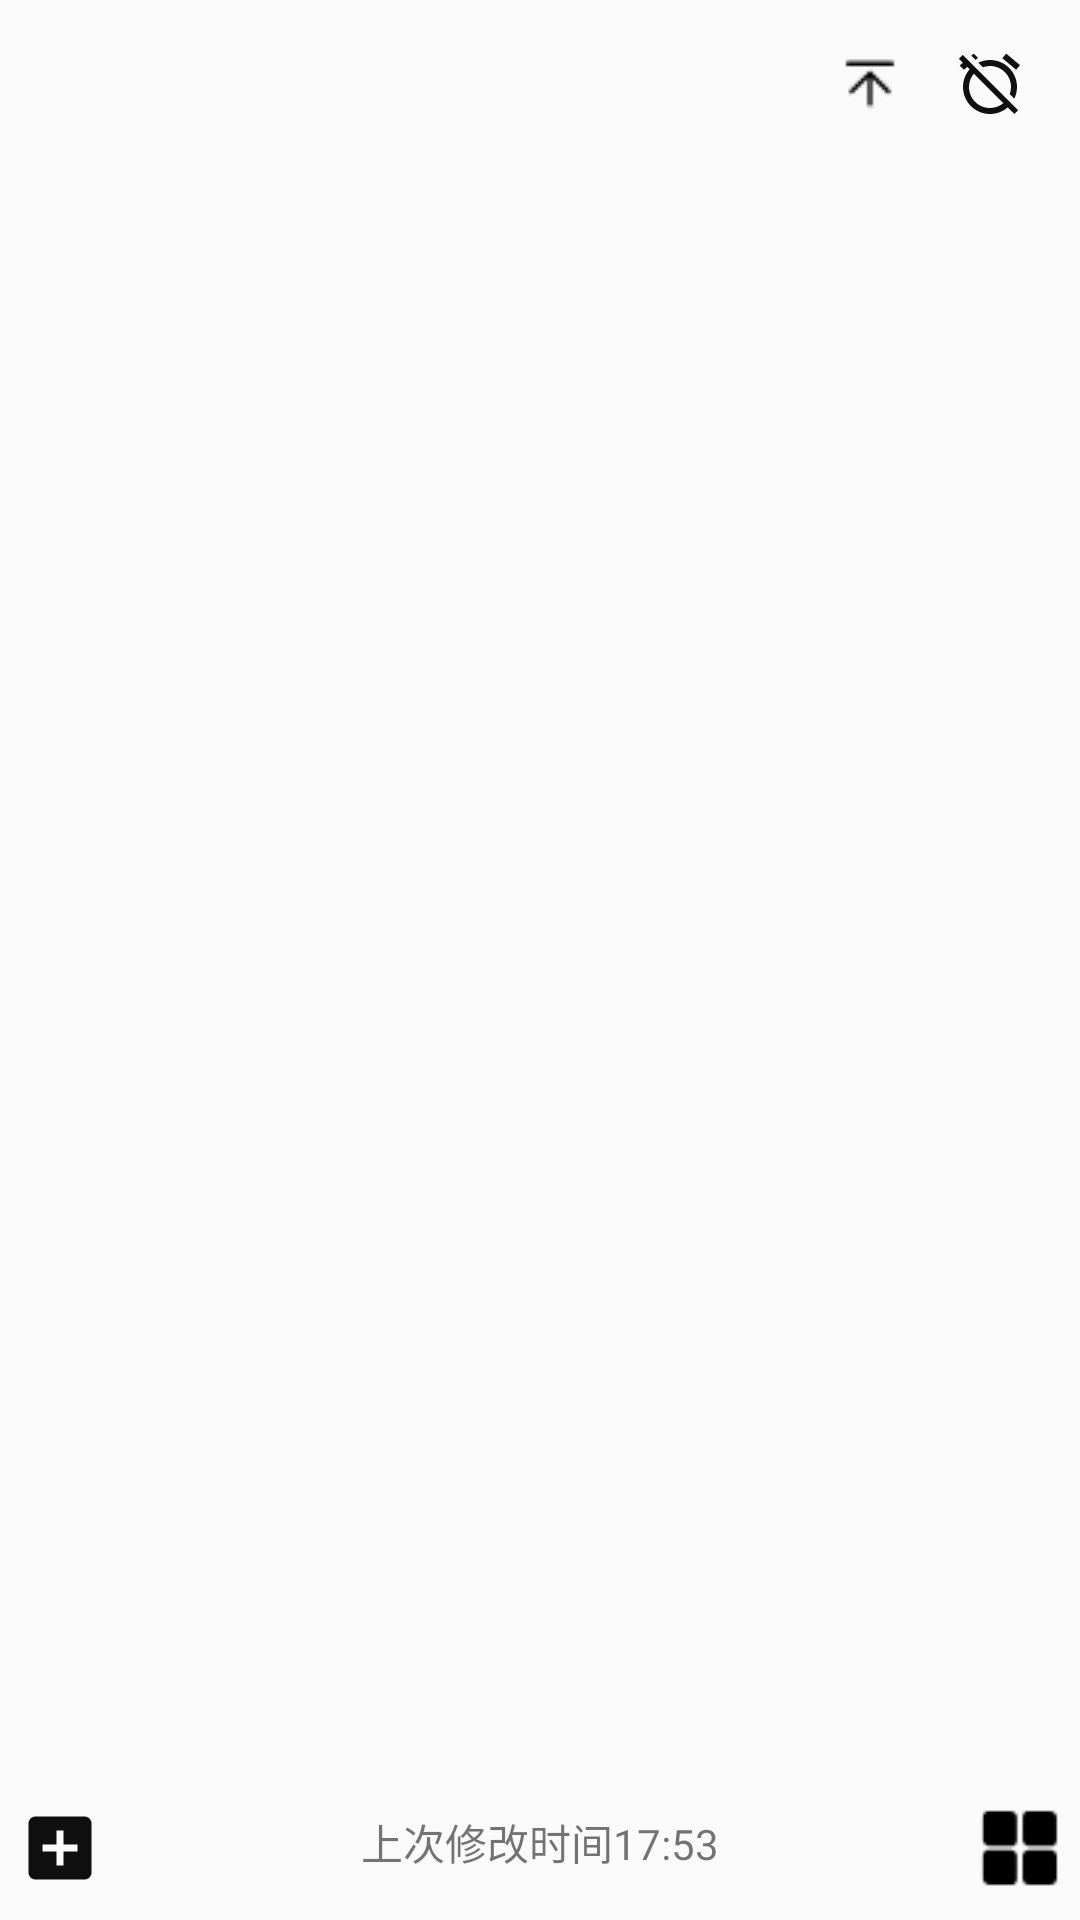

Locate icon controls on the screen. Image size 1080w x 1920h, boxes as (x1, y1, x2, y2).
add: (28, 1816, 92, 1880)
items: (982, 1810, 1058, 1886)
top: (845, 59, 895, 108)
